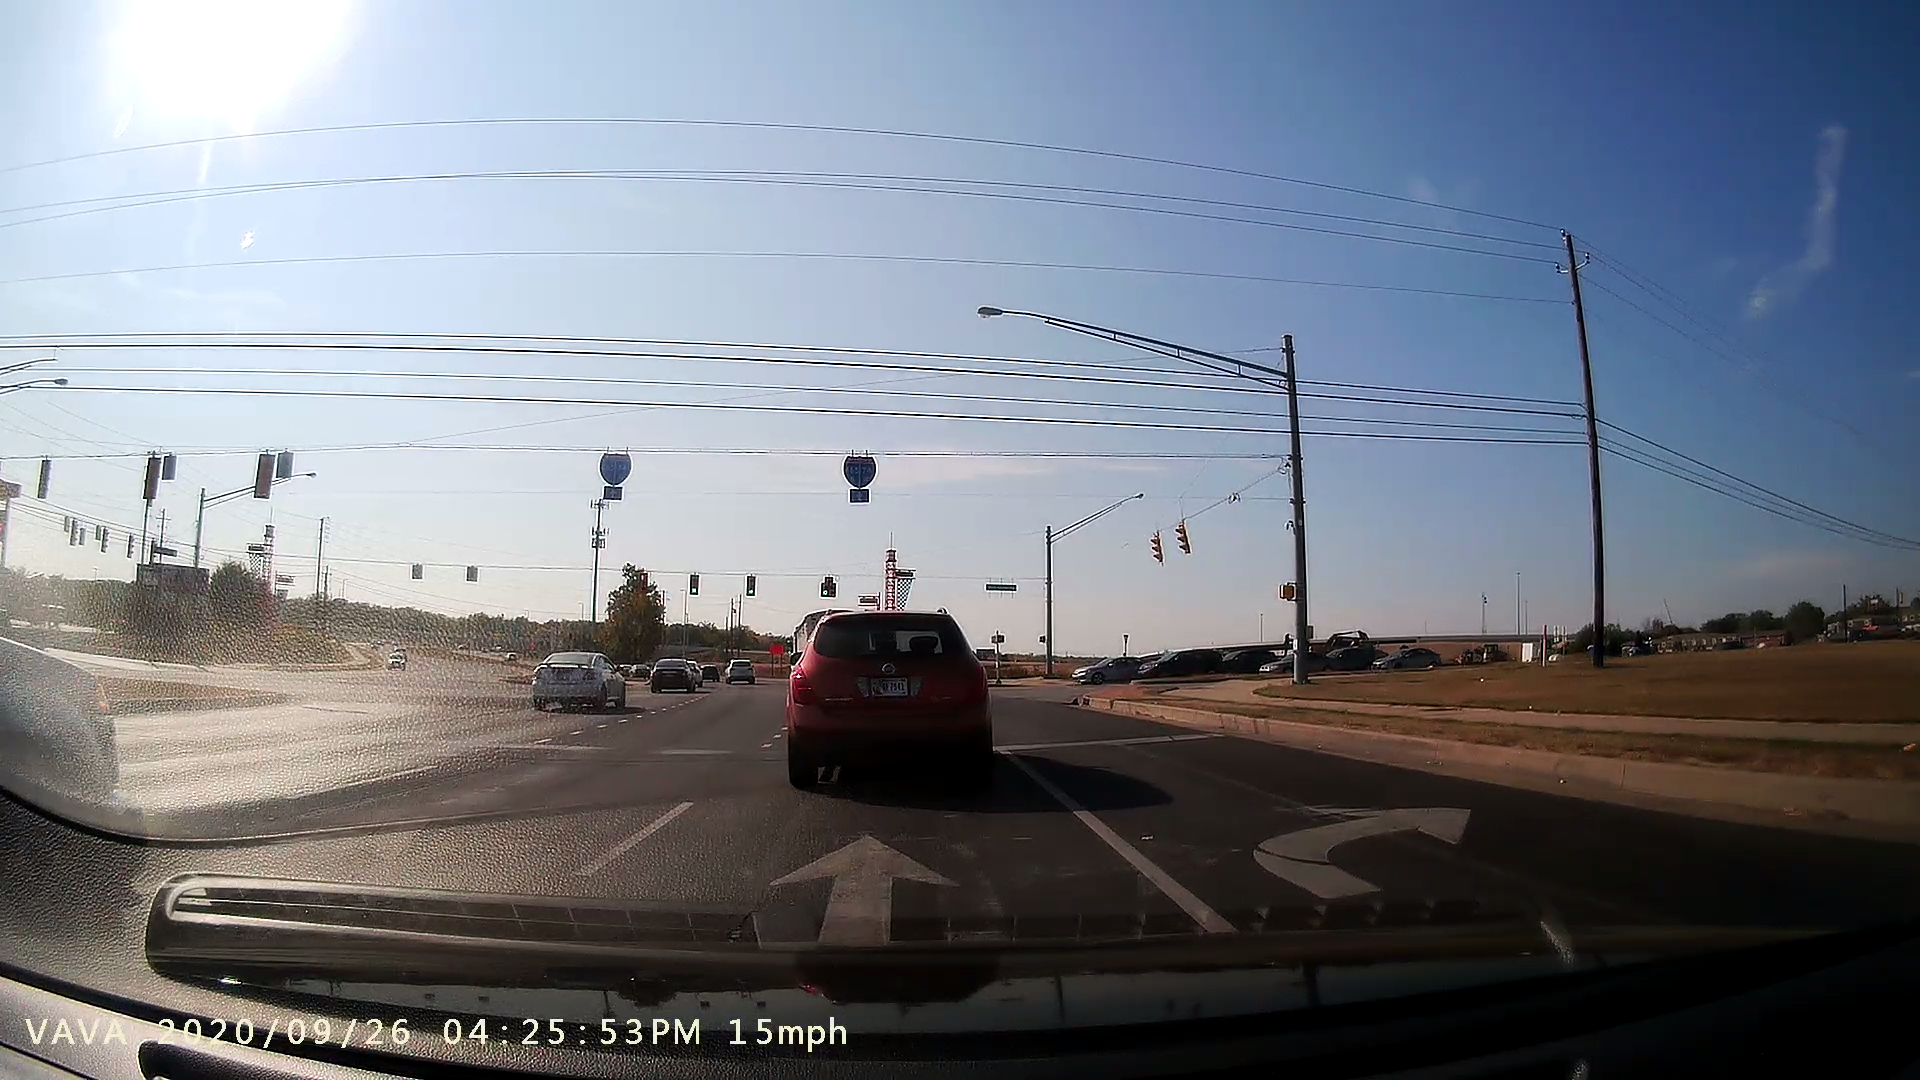right_turn: (1246, 789, 1477, 902)
